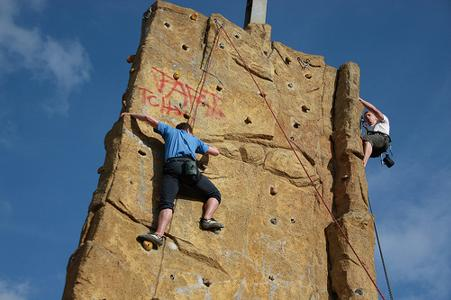person: (119, 112, 225, 248)
